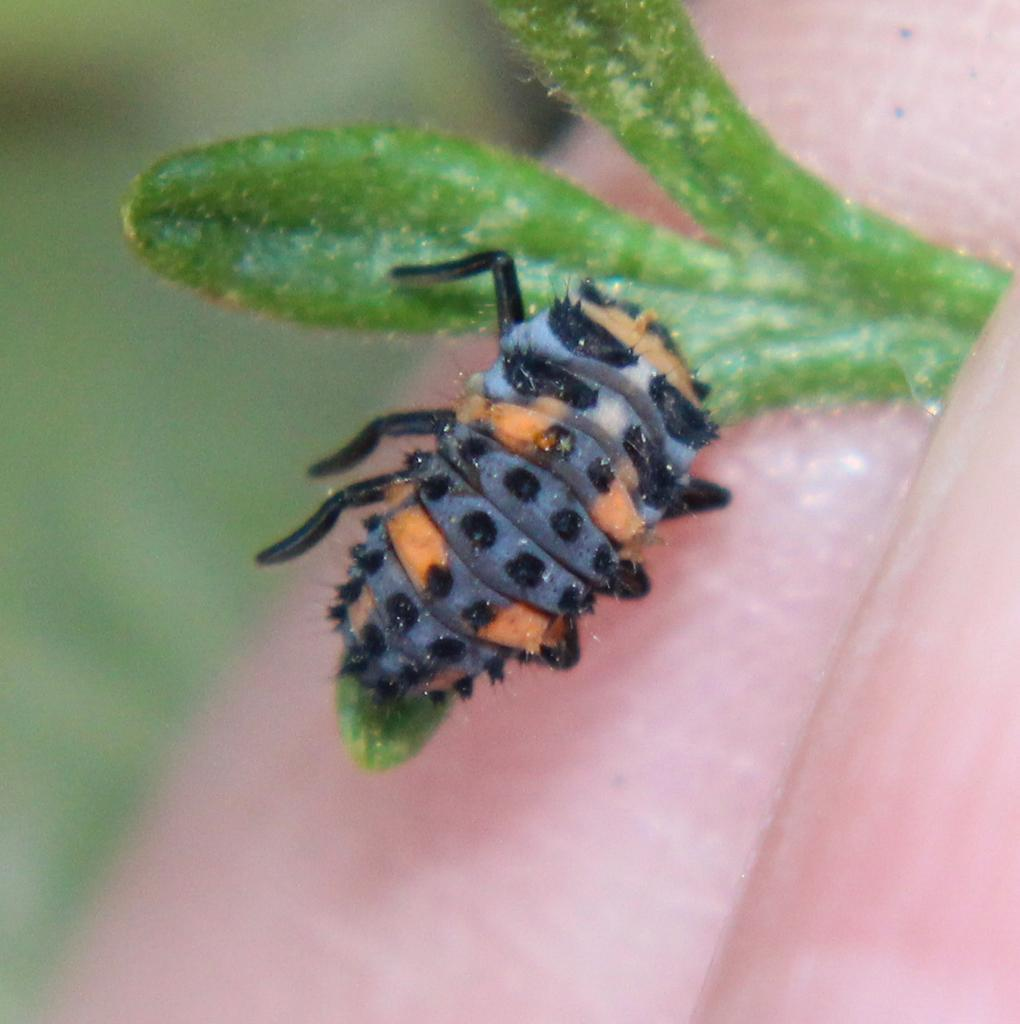ladybug: (251, 246, 741, 724)
